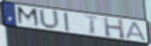A: (125, 21, 148, 43)
H: (102, 16, 126, 41)
I: (62, 11, 71, 33)
M: (16, 5, 42, 29)
T: (83, 15, 101, 36)
U: (38, 7, 62, 31)
